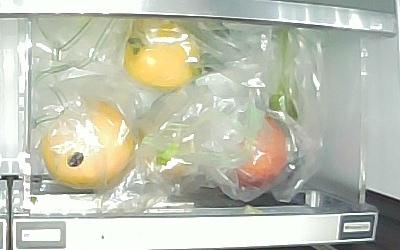apple_vinyl: (227, 115, 286, 184)
grapefruit_vinyl: (47, 100, 135, 192)
paprika_vinyl: (123, 21, 207, 89)
